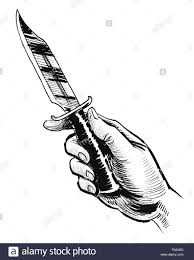knife: (15, 5, 128, 200)
